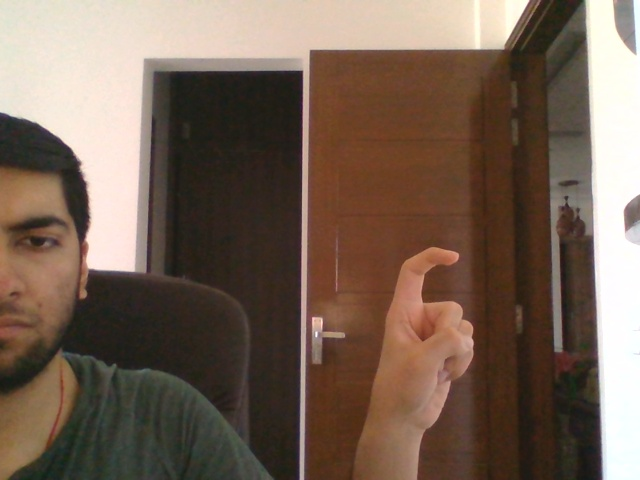LetterX: (367, 242, 477, 438)
